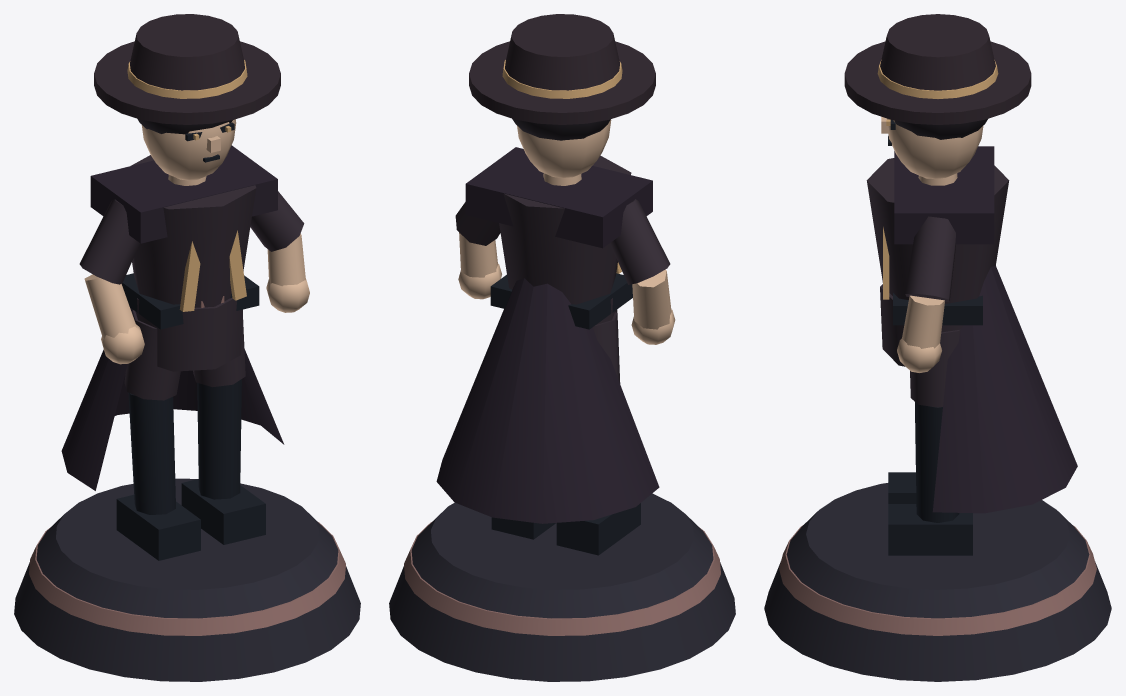
File: blackbeard.glb
3 renders of one model, left to right at view 1: azimuth 30°, elevation 25°; view 2: azimuth 150°, elevation 25°; view 3: azimuth 270°, elevation 25°, orthographic.
Parts seen in each view (by area): view 1: Placeholder Blackbeard; view 2: Placeholder Blackbeard; view 3: Placeholder Blackbeard.
Boxes of the visible parts, x1,y1,x2,y2 form: Placeholder Blackbeard: [14, 14, 360, 681]; Placeholder Blackbeard: [389, 14, 735, 681]; Placeholder Blackbeard: [764, 14, 1111, 681].
Bounding box in the file's own units: 0.54 × 0.9819 × 0.54.
